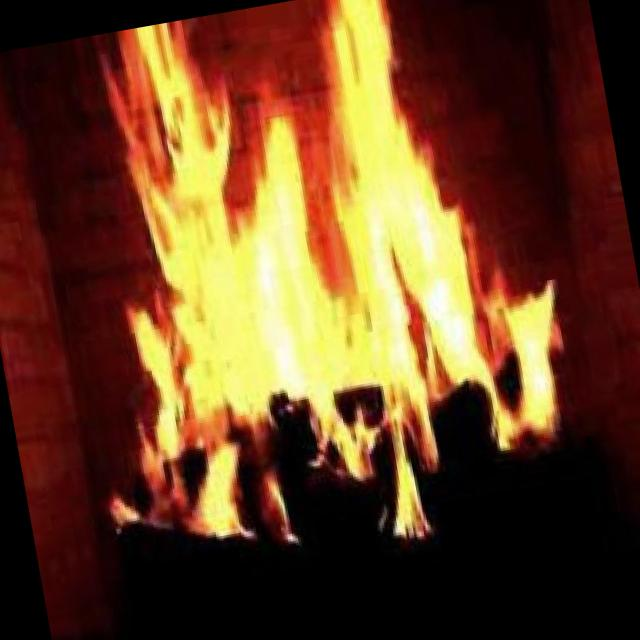Fire: (21, 0, 611, 612)
